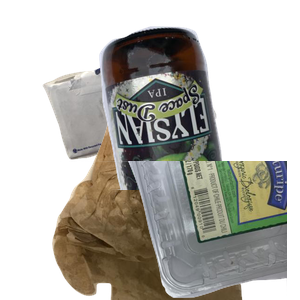glass: (97, 24, 300, 204)
paper: (40, 35, 249, 187)
plastic: (60, 161, 300, 300)
trash: (50, 120, 285, 300)
